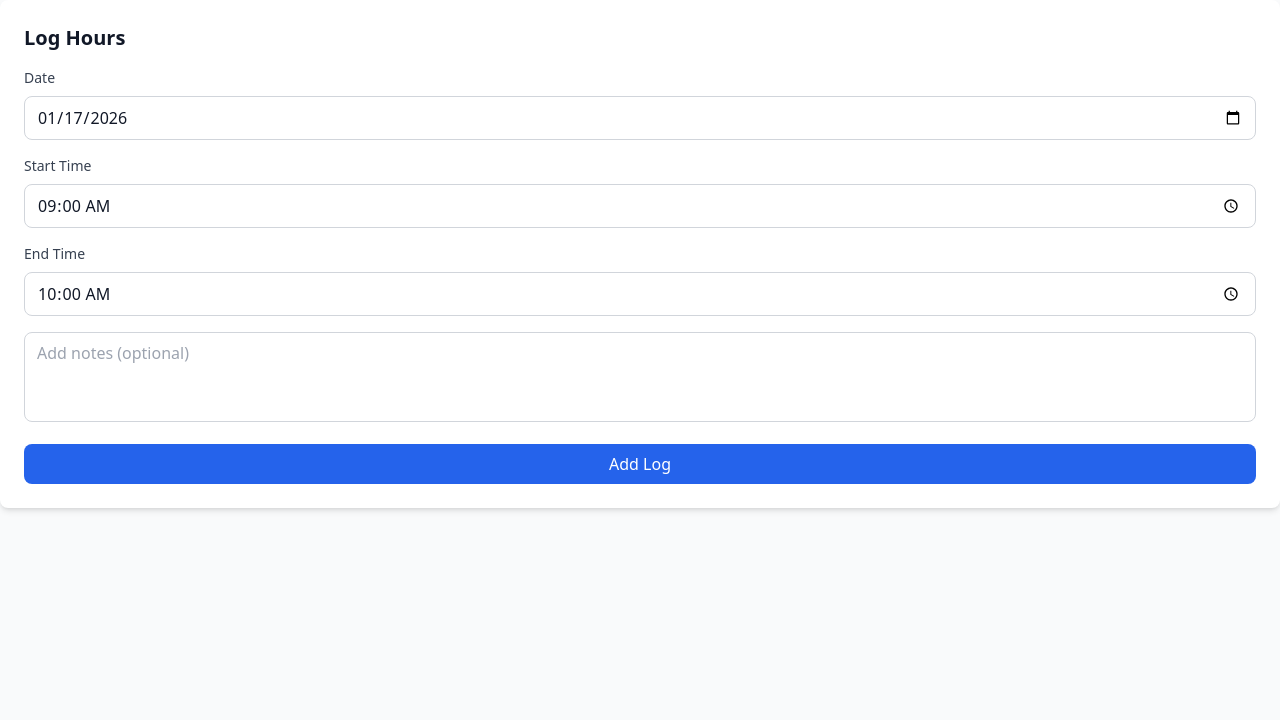
Test: LogForm › should show error on invalid submission
Click the button "Add Log".
click(640, 464)  # box top-left (24, 444), bottom-right (1256, 484)
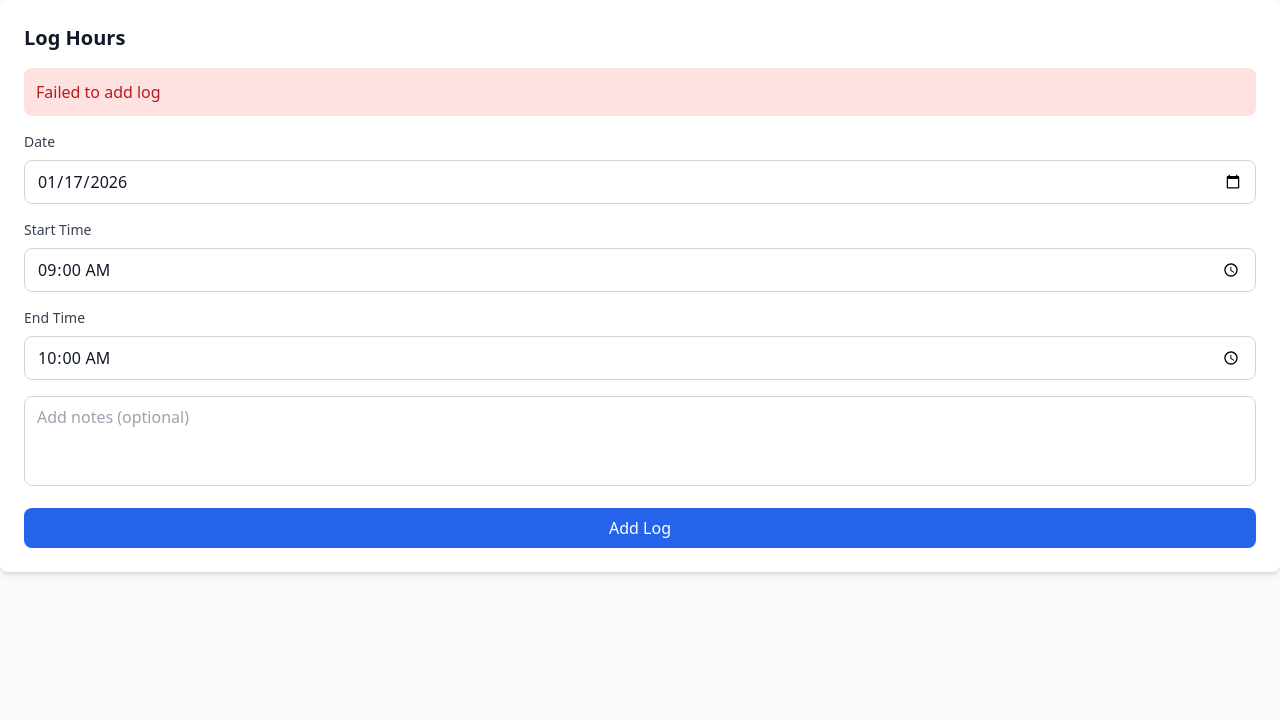
Now the text "Failed to add log" is shown, box top-left (24, 68), bottom-right (1256, 116)
